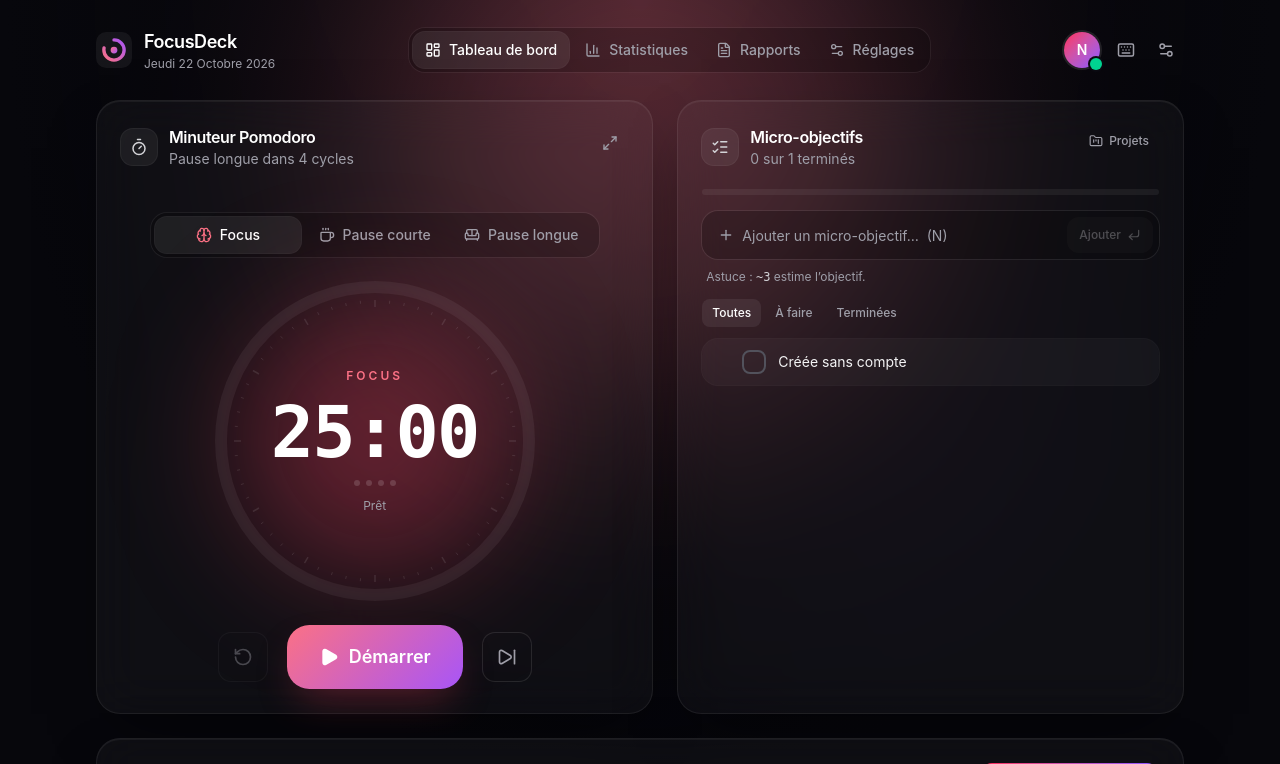
Comptes (EF-C02 à C06) › connecté : synchronise les objectifs, puis efface l’appareil à la déconnexion
The width and height of the screenshot is (1280, 764).
Type "Ajoutée connectée" into the field named "Nouvel objectif" at point(901, 235), box [742,217,1059,253]
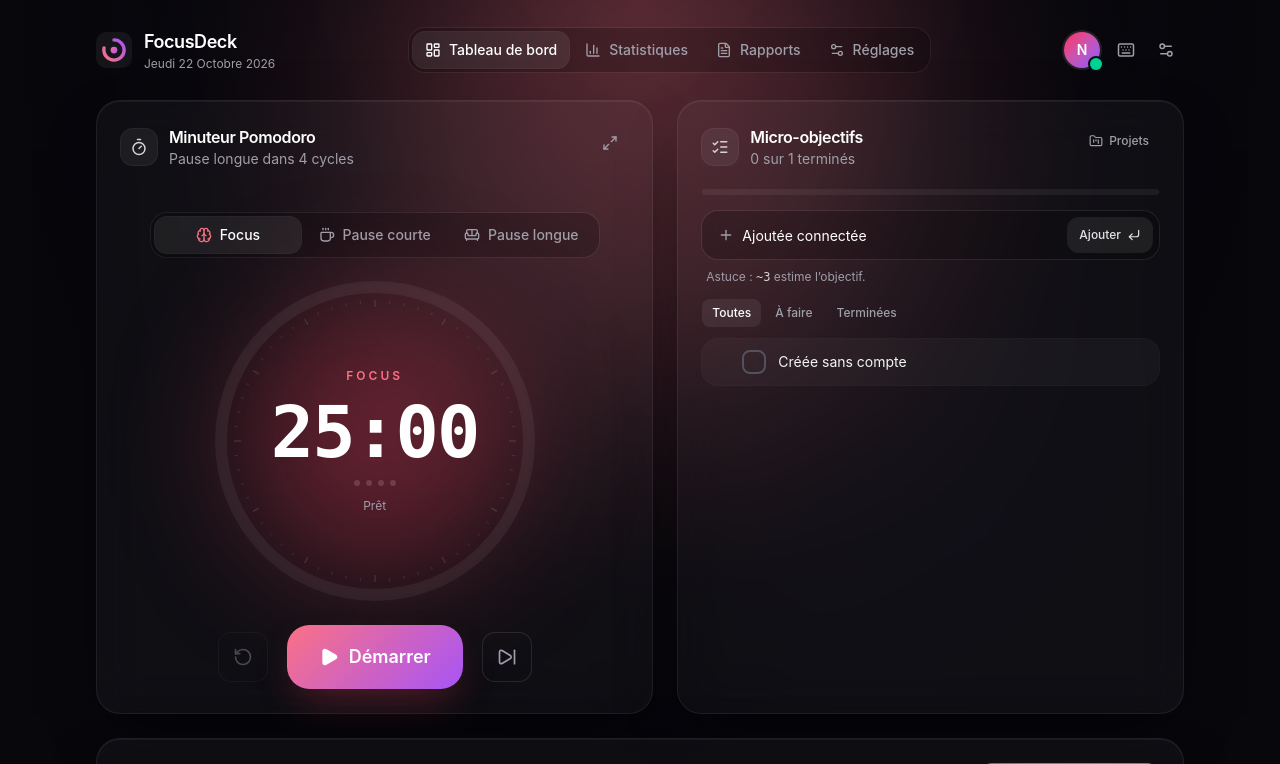
Submit the form named "Nouvel objectif", box [702,211,1159,259]
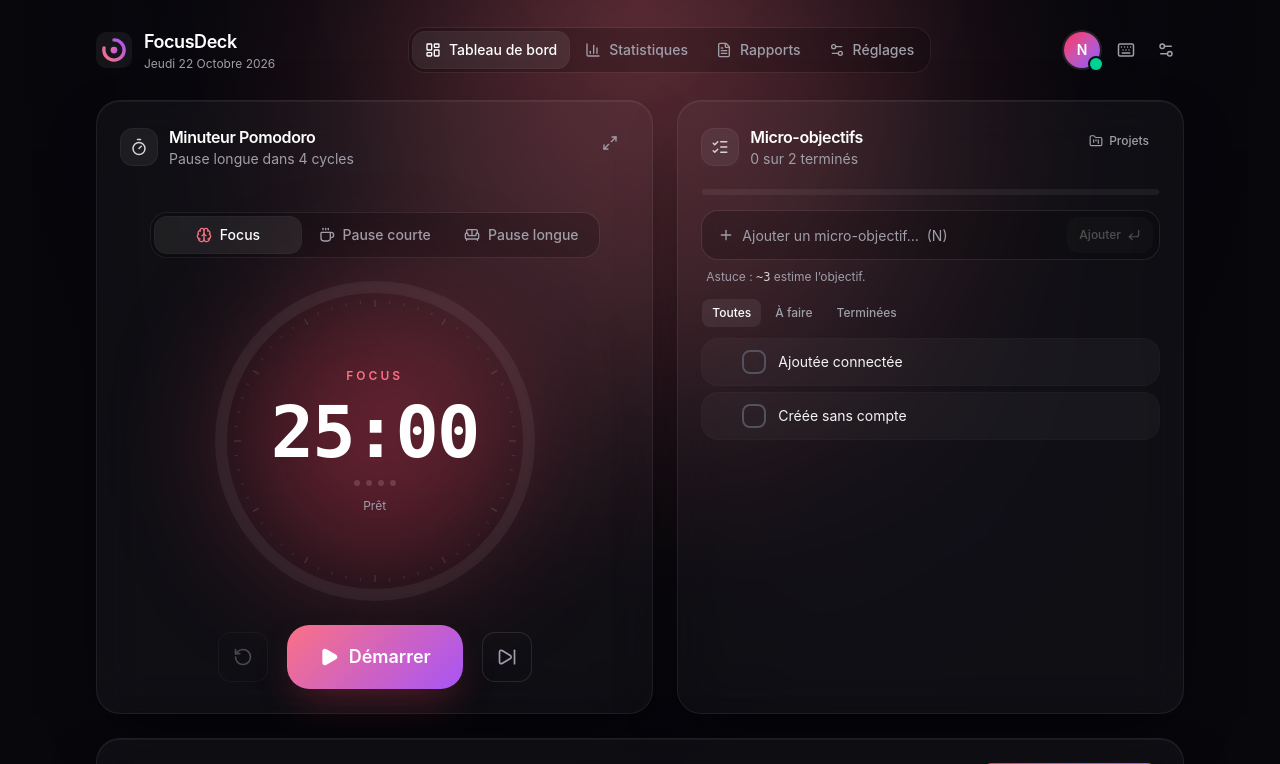
Click the button named "Mon compte" at point(1082, 50), box [1064,32,1100,68]
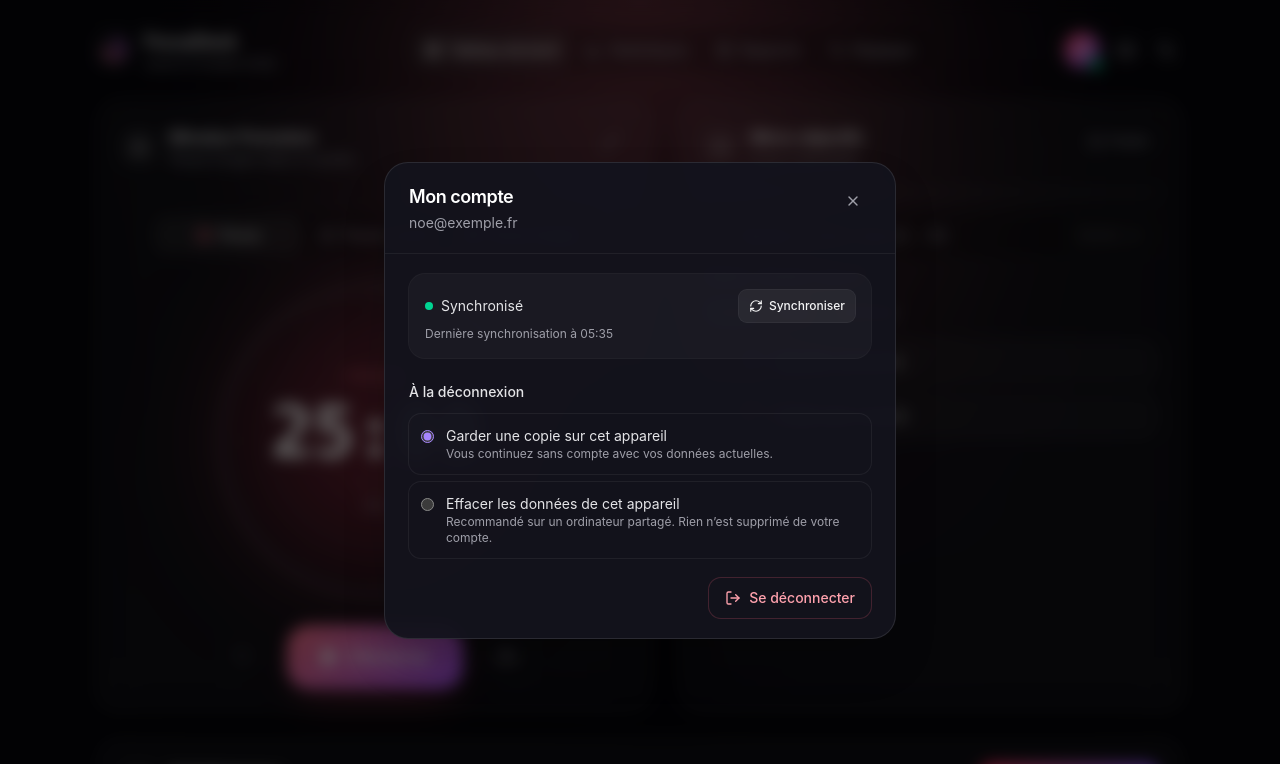
Now the text "noe@exemple.fr" is shown, box [409,212,518,232]
Now the text "Synchronisé" is shown, box [425,296,523,316]
Click the radio button labelled "Effacer les données de cet appareil" at point(428, 504), box [421,498,434,510]
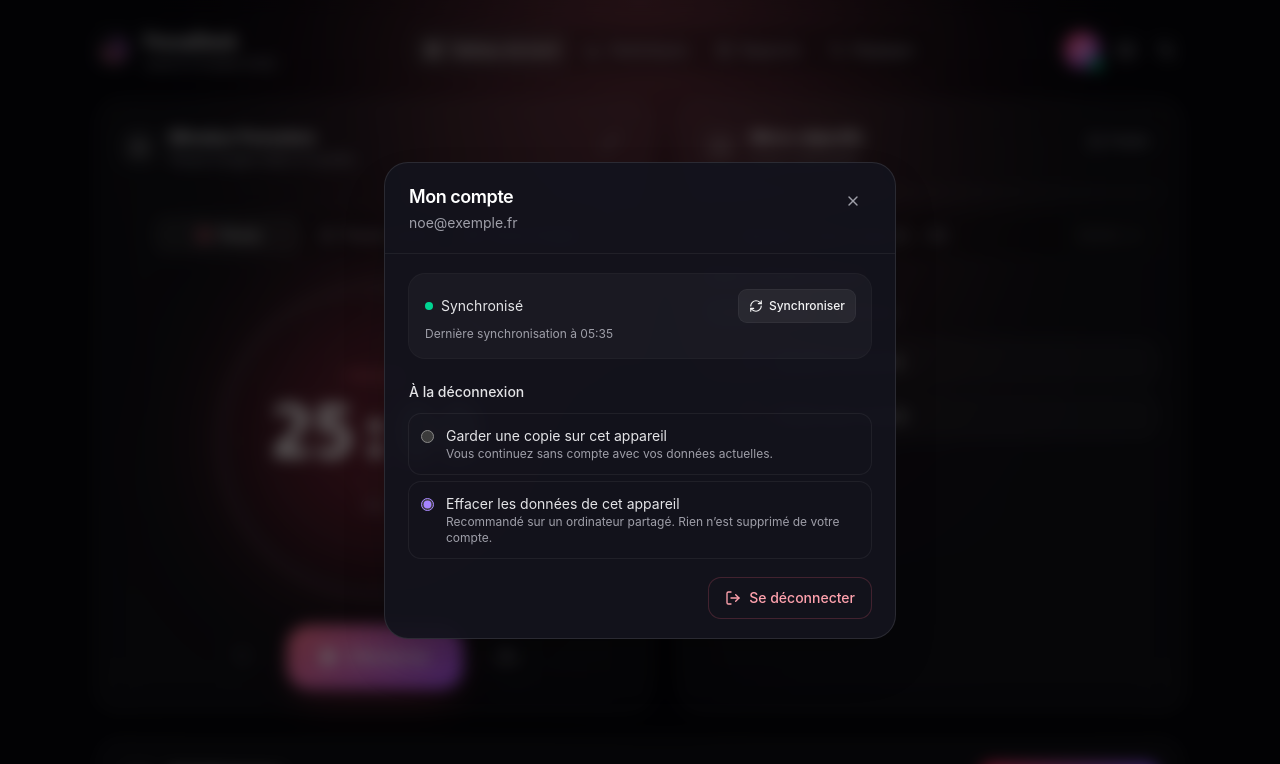
Click the button "Se déconnecter" at point(790, 598), box [709,578,871,618]
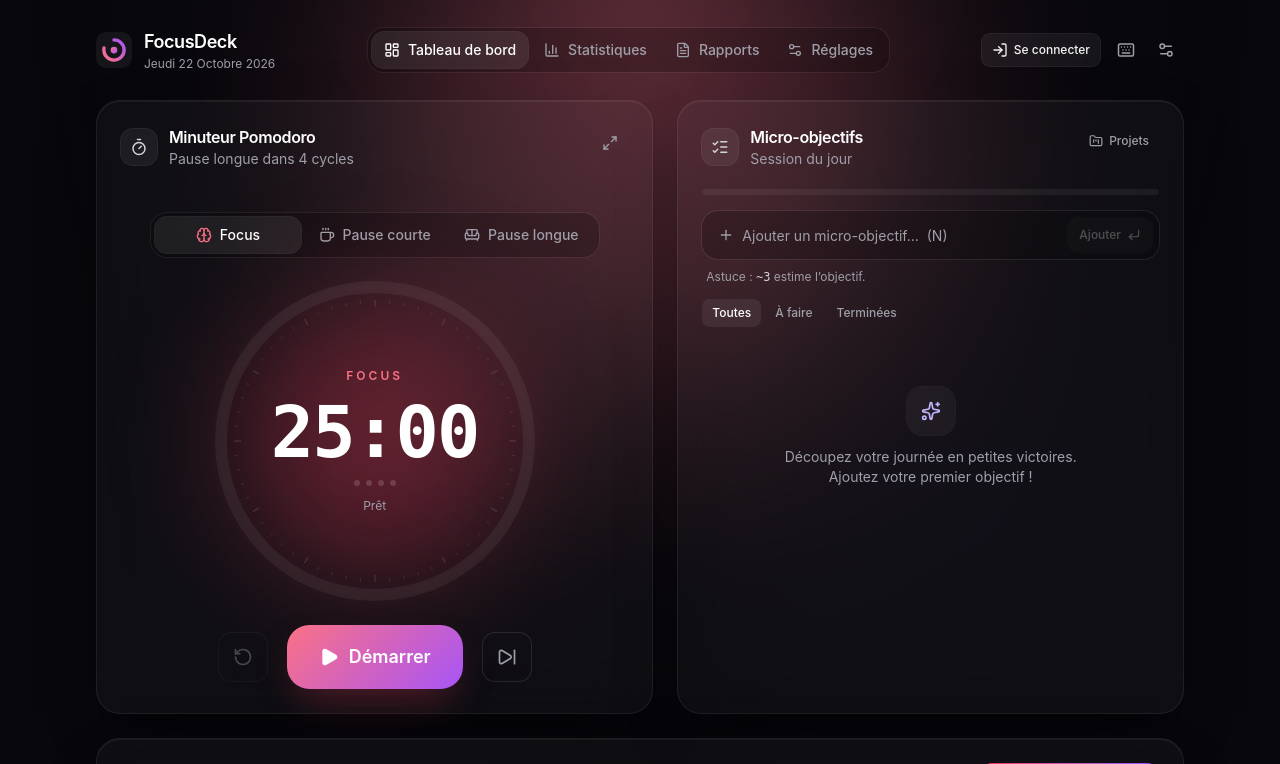
Now the button "Se connecter" is shown, box [982,34,1100,66]
Now no checkboxes are shown
